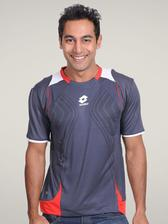clothoes: (20, 64, 152, 217)
